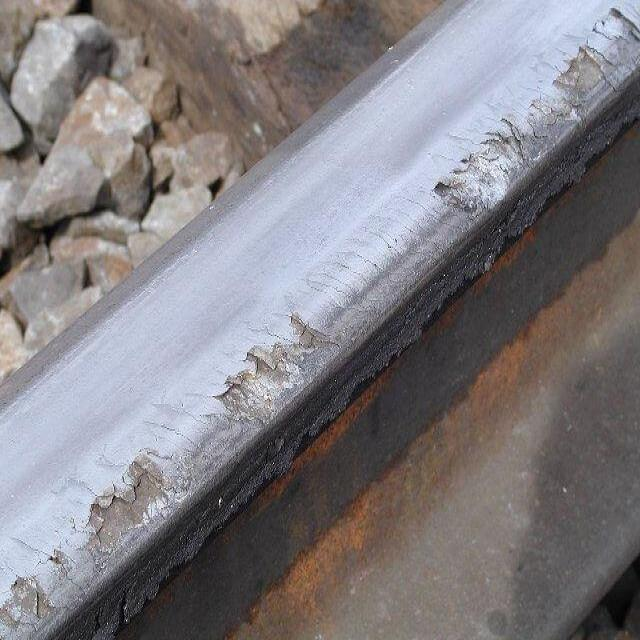squats_low: (220, 316, 339, 415), (81, 448, 185, 554), (432, 122, 565, 204), (540, 12, 640, 116), (0, 577, 80, 640)
